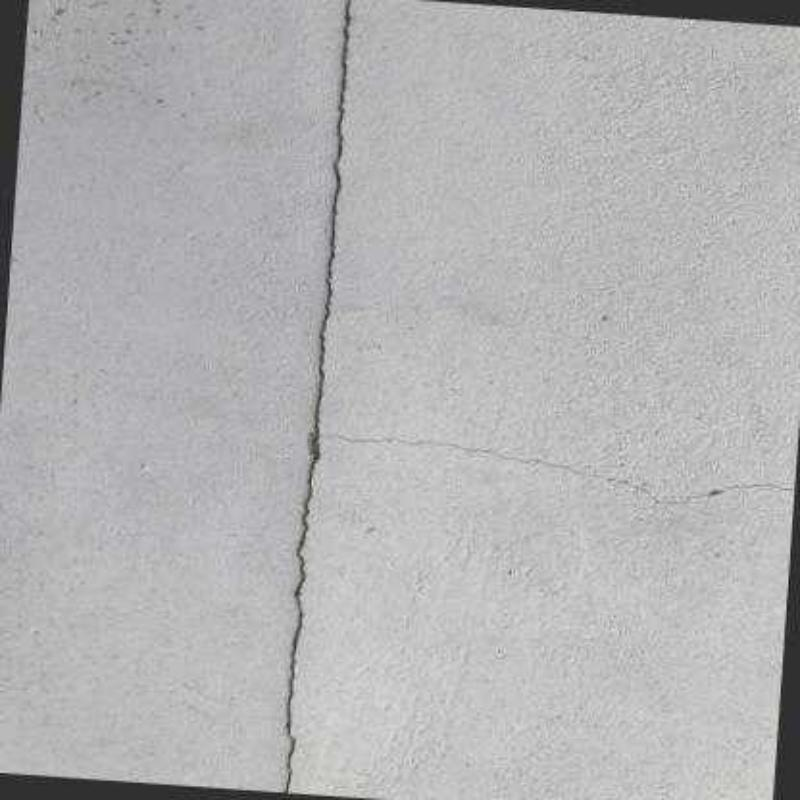pothole: (281, 2, 361, 795), (331, 433, 794, 506)
